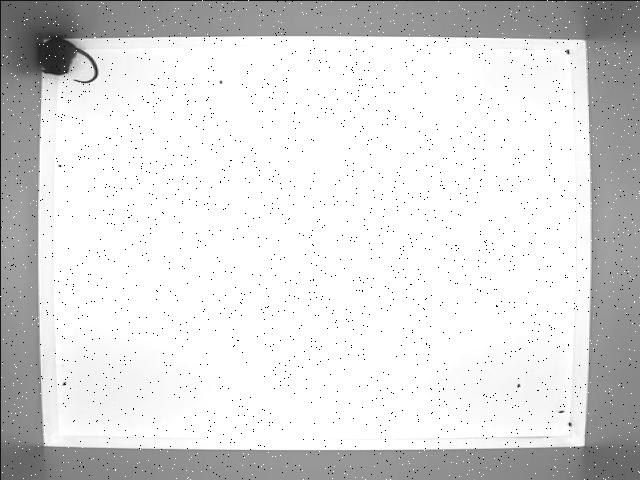Tikus: (34, 33, 102, 86)
